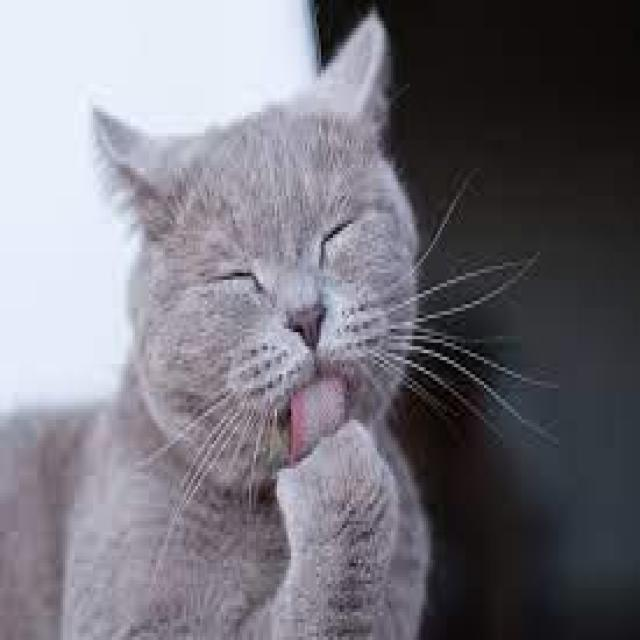Cat: (40, 12, 472, 499)
